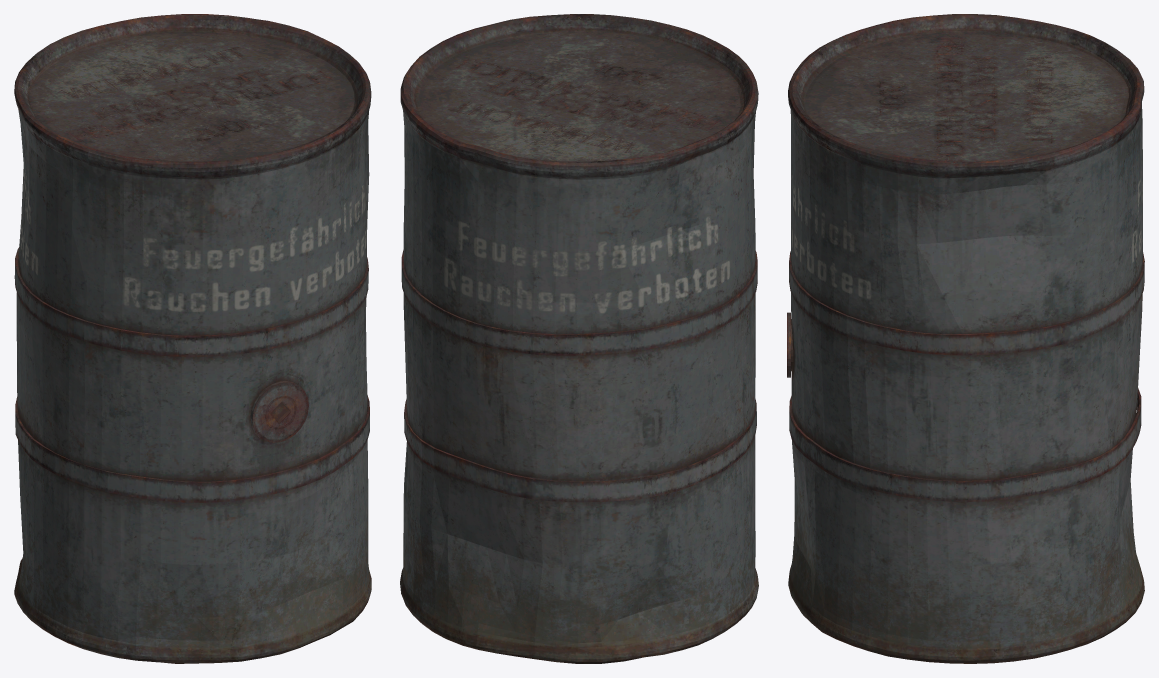
File: german_barrel.obj
The picture shows the model from 3 angles, left to right: view 1: azimuth 30°, elevation 25°; view 2: azimuth 150°, elevation 25°; view 3: azimuth 270°, elevation 25°; orthographic projection.
Parts seen in each view (by area): view 1: german_barrel; view 2: german_barrel; view 3: german_barrel.
Boxes of the visible parts, x1,y1,x2,y2 form: german_barrel: (14, 14, 371, 663); german_barrel: (400, 14, 758, 663); german_barrel: (787, 14, 1144, 663).
Bounding box in the file's own units: 68.03 × 105 × 67.89.
